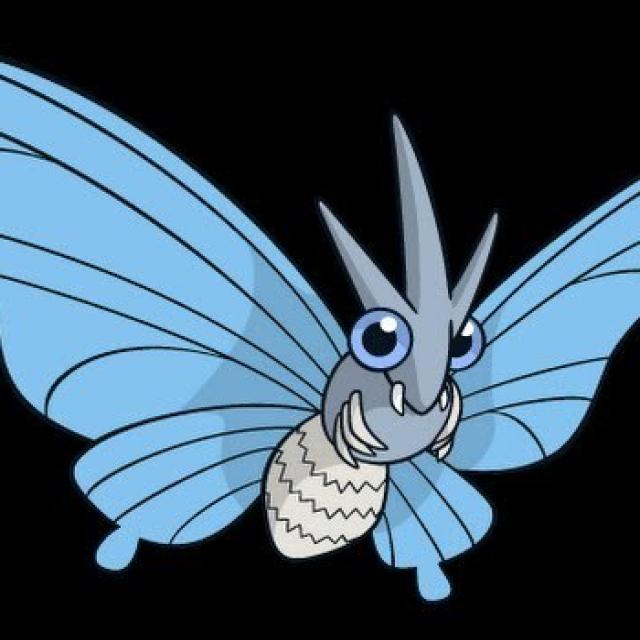Venomoth: (197, 188, 524, 589)
